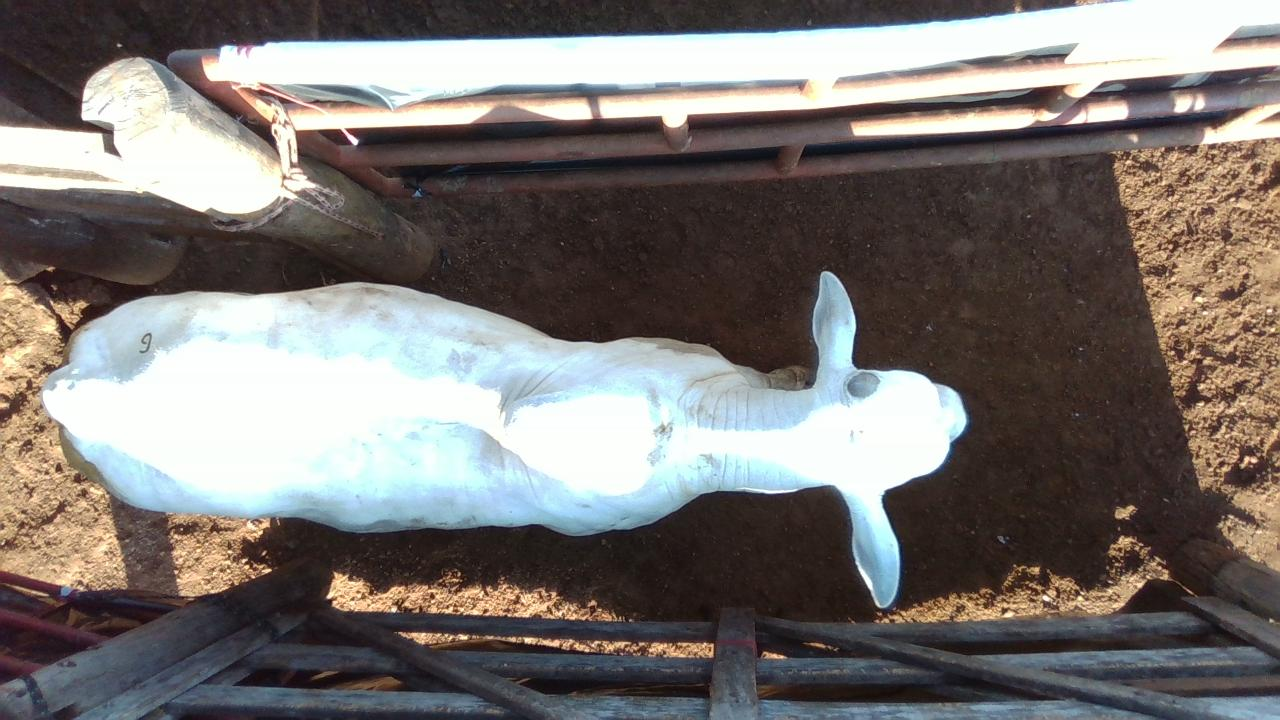cattle: (40, 269, 968, 610)
